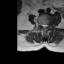CCS_normal: (43, 22, 45, 31)
LFS_severe_stenosis: (47, 22, 49, 28)
LLS_stenosis: (45, 22, 47, 29)
RFS_stenosis: (40, 21, 42, 28)
RLS_normal: (42, 22, 43, 29)
